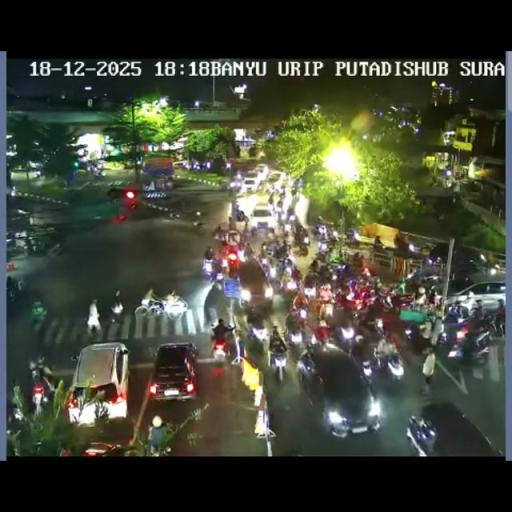Car: (299, 348, 381, 436), (68, 342, 130, 425), (409, 402, 499, 455), (147, 342, 198, 402), (445, 280, 505, 314), (250, 205, 274, 231), (106, 186, 140, 202), (242, 175, 262, 192), (266, 170, 284, 183), (172, 160, 190, 169)
Motorcycle: (290, 248, 398, 358), (202, 213, 290, 303), (365, 339, 404, 383), (29, 358, 54, 410), (407, 260, 449, 286), (341, 282, 375, 311), (267, 340, 289, 382), (5, 398, 27, 440), (384, 288, 419, 311), (135, 295, 169, 318), (332, 322, 358, 351), (442, 307, 461, 345), (163, 288, 187, 318), (204, 283, 222, 323), (246, 313, 269, 344), (360, 312, 386, 338), (472, 314, 497, 340), (284, 324, 306, 353), (210, 330, 230, 360), (290, 300, 310, 330), (201, 256, 223, 283), (321, 254, 350, 274), (277, 256, 295, 286), (231, 326, 246, 362), (427, 314, 444, 345), (402, 316, 422, 342), (148, 433, 170, 456), (260, 238, 282, 260), (313, 319, 331, 345), (316, 297, 333, 323), (292, 232, 310, 256), (258, 256, 274, 282), (494, 301, 506, 335), (86, 308, 101, 334), (109, 302, 124, 328), (30, 311, 46, 335), (268, 196, 285, 218), (47, 240, 65, 258), (302, 272, 318, 292), (6, 276, 18, 302), (242, 240, 256, 260), (312, 224, 330, 238), (351, 251, 365, 268), (471, 300, 484, 318), (212, 227, 227, 242), (345, 228, 361, 242), (220, 252, 230, 274), (25, 236, 37, 254), (192, 214, 206, 228), (285, 203, 295, 222), (227, 178, 241, 191), (264, 282, 274, 300), (309, 258, 320, 274), (240, 286, 251, 302), (292, 180, 302, 197), (204, 244, 214, 260), (427, 288, 437, 304), (168, 209, 182, 220), (163, 176, 174, 190), (237, 211, 249, 223), (317, 238, 328, 251), (276, 184, 286, 198), (330, 228, 340, 242), (362, 262, 371, 277), (250, 225, 260, 237), (229, 214, 236, 230), (94, 168, 105, 178), (34, 168, 42, 178)
